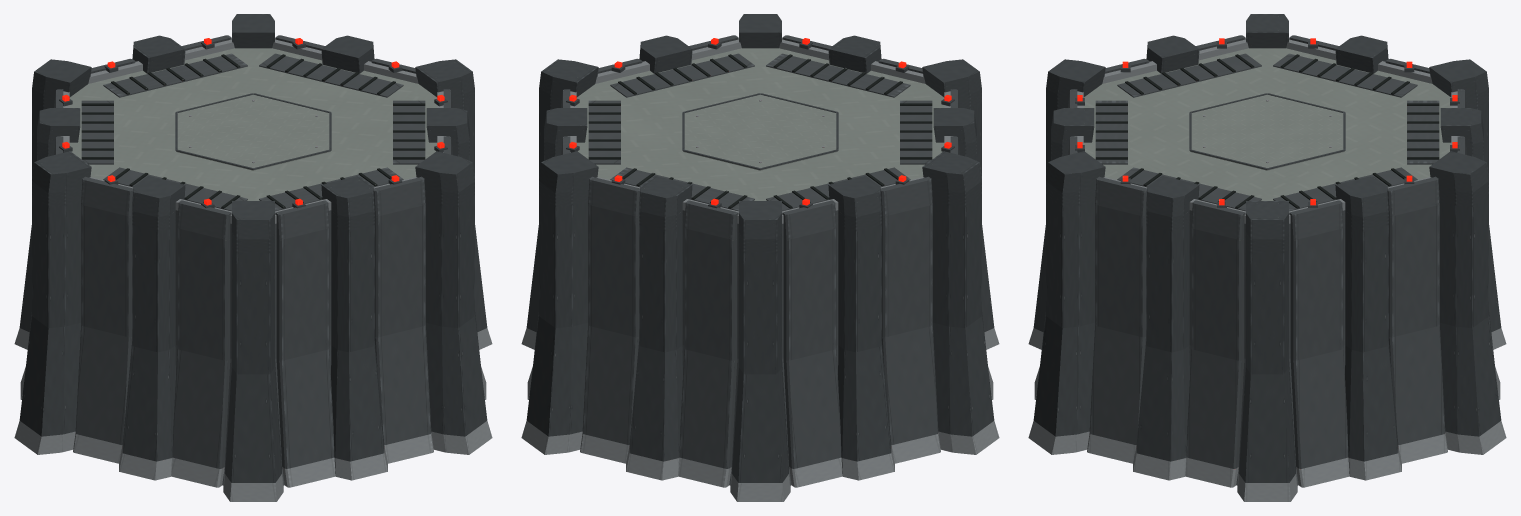
File: terminal.glb
3 renders of one model, left to right at view 1: azimuth 30°, elevation 25°; view 2: azimuth 150°, elevation 25°; view 3: azimuth 270°, elevation 25°, orthographic.
Visible parts, largest first — view 1: terminal-lod0-roof0, terminal-lod0-base0, terminal-lod0-floor0; view 2: terminal-lod0-roof0, terminal-lod0-base0, terminal-lod0-floor0; view 3: terminal-lod0-roof0, terminal-lod0-base0, terminal-lod0-floor0.
Part boxes in pixels (box(x1,y1,x2,y2)): terminal-lod0-roof0: box(32, 14, 474, 253); terminal-lod0-base0: box(14, 225, 492, 501); terminal-lod0-floor0: box(32, 103, 474, 374); terminal-lod0-roof0: box(539, 14, 981, 253); terminal-lod0-base0: box(521, 225, 999, 501); terminal-lod0-floor0: box(539, 103, 981, 374); terminal-lod0-roof0: box(1046, 14, 1488, 253); terminal-lod0-base0: box(1028, 225, 1506, 501); terminal-lod0-floor0: box(1046, 103, 1488, 374).
Size of what is drawn, in the model's own units: 70.84 by 40.8 by 64.5.
Materials: 6 (6 with a texture image).
